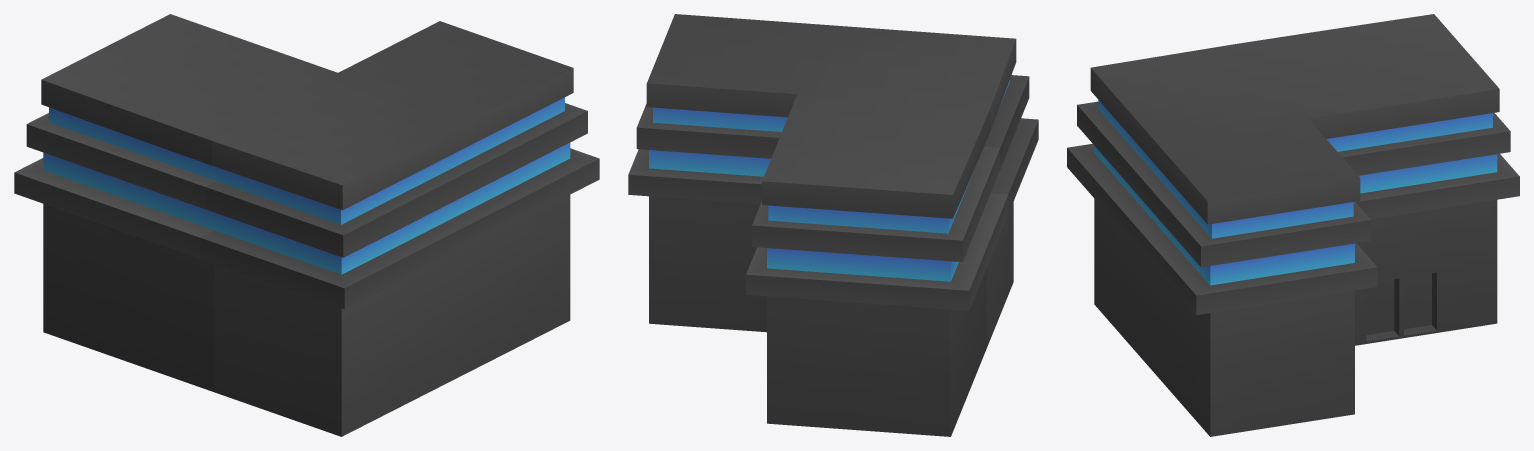
Rendered from torre_porta_02.fbx.
The picture shows the model from 3 angles, left to right: view 1: azimuth 30°, elevation 25°; view 2: azimuth 150°, elevation 25°; view 3: azimuth 270°, elevation 25°; orthographic projection. The views are drawn at different scales.
Parts seen in each view (by area): view 1: Plane.009; view 2: Plane.009; view 3: Plane.009.
Part boxes in pixels (bbox=[...]): Plane.009: bbox=[14, 14, 599, 436]; Plane.009: bbox=[628, 14, 1038, 436]; Plane.009: bbox=[1067, 14, 1519, 436].
Bounding box in the file's own units: 4333 × 2312 × 4012.
